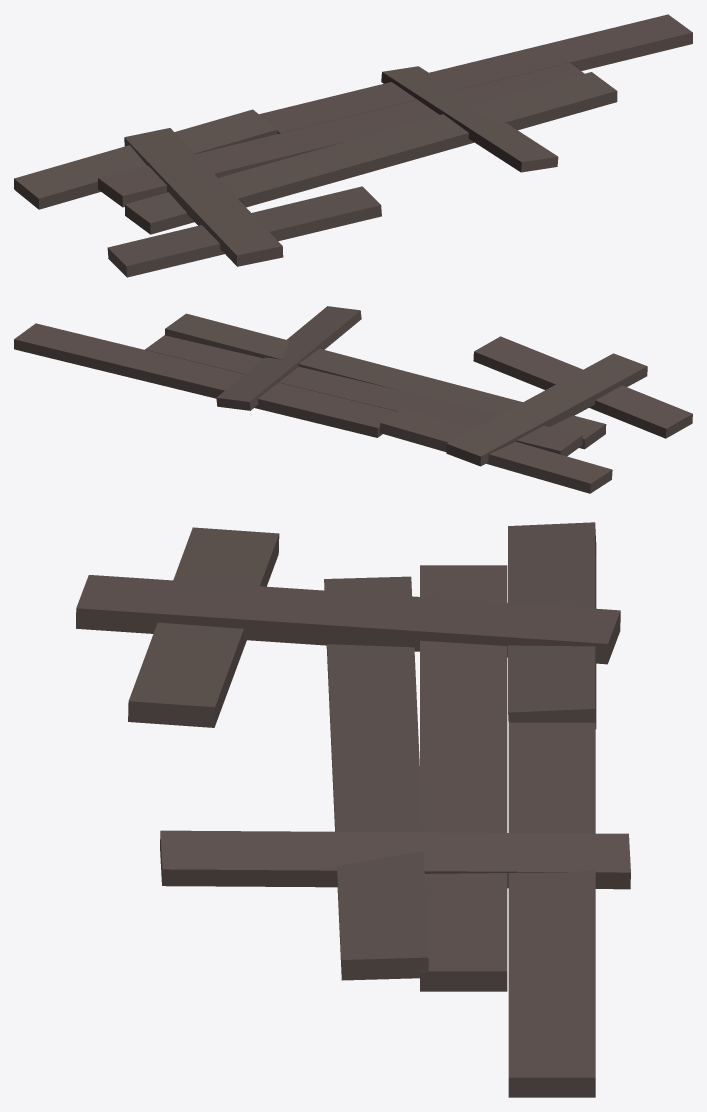
The model's file is Ship_015.glb.
The picture shows the model from 3 angles, top to bottom: view 1: azimuth 30°, elevation 25°; view 2: azimuth 150°, elevation 25°; view 3: azimuth 270°, elevation 25°; orthographic projection. The views are drawn at different scales.
Parts seen in each view (by area): view 1: Ship_015; view 2: Ship_015; view 3: Ship_015.
Part boxes in pixels (box(x1,y1,x2,y2)): Ship_015: box(14, 14, 692, 277); Ship_015: box(14, 306, 692, 493); Ship_015: box(76, 522, 630, 1097).
Bounding box in the file's own units: 5.32 × 0.2238 × 2.21.
Materials: 1 (1 with a texture image).
